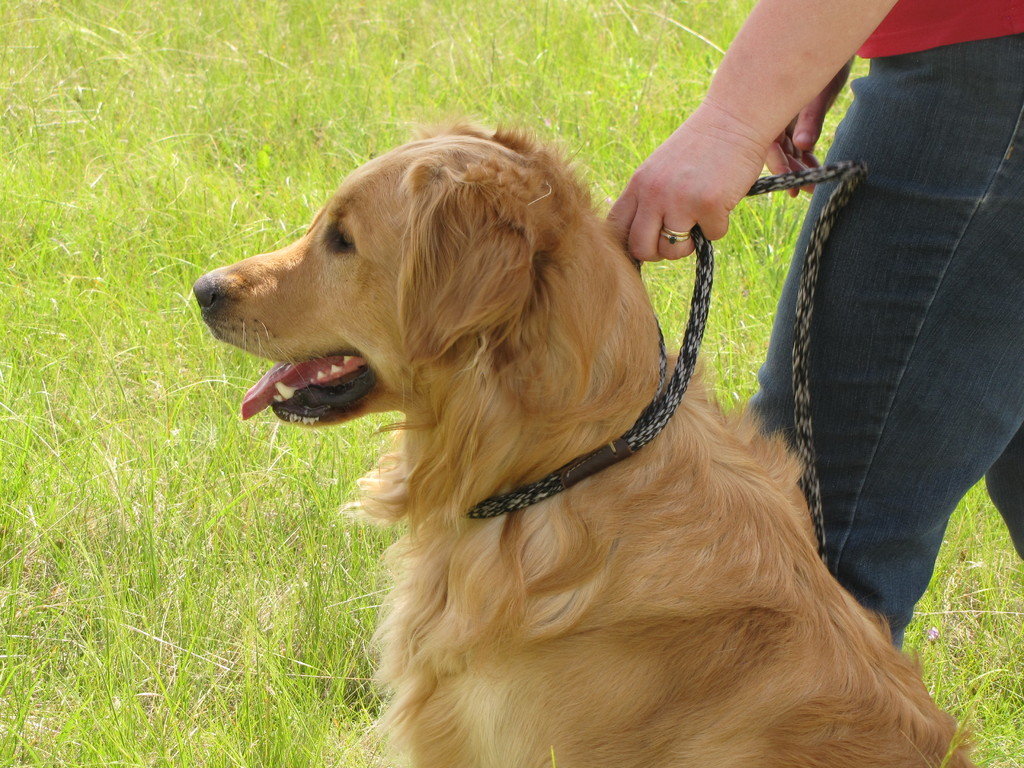Human_hand: (604, 103, 768, 262), (767, 55, 856, 198)
